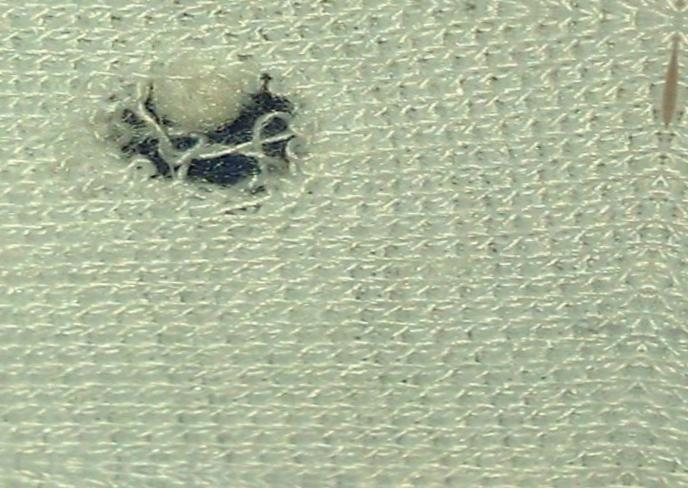hole: (129, 48, 279, 140)
